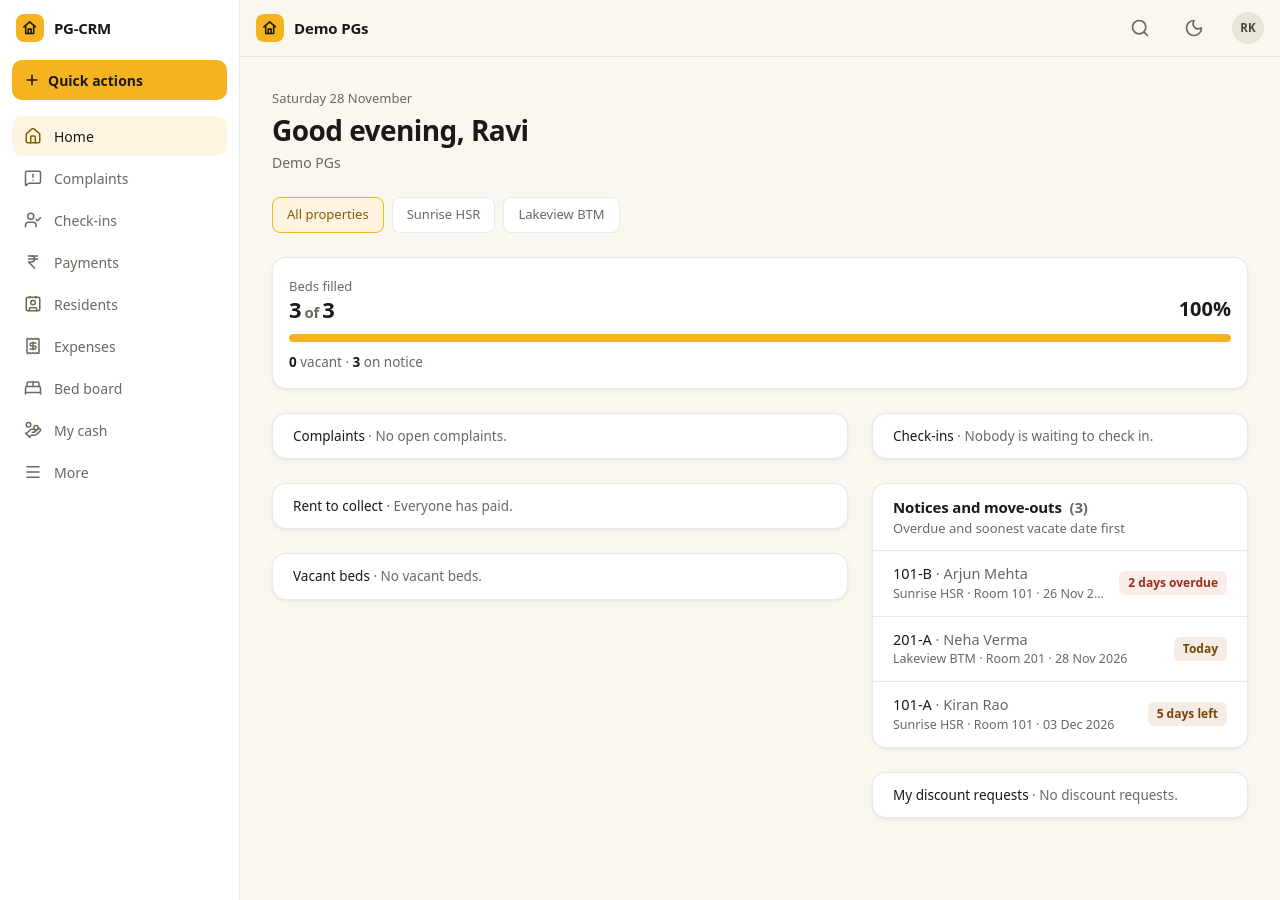
Test: FE-04 Home screens › [FE-04/AC1] Caretaker home lists on-notice beds for assigned properties, soonest vacate date first
Expected: the number of list items is 3, [873, 551, 1247, 616]; [873, 616, 1247, 682]; [873, 682, 1247, 746]
Expected: the list item that starts with "101-B" is shown, [873, 551, 1247, 616]
// Property switcher filters to Lakeview BTM
Click the button "Lakeview BTM" at (562, 214), box [503, 196, 620, 232]
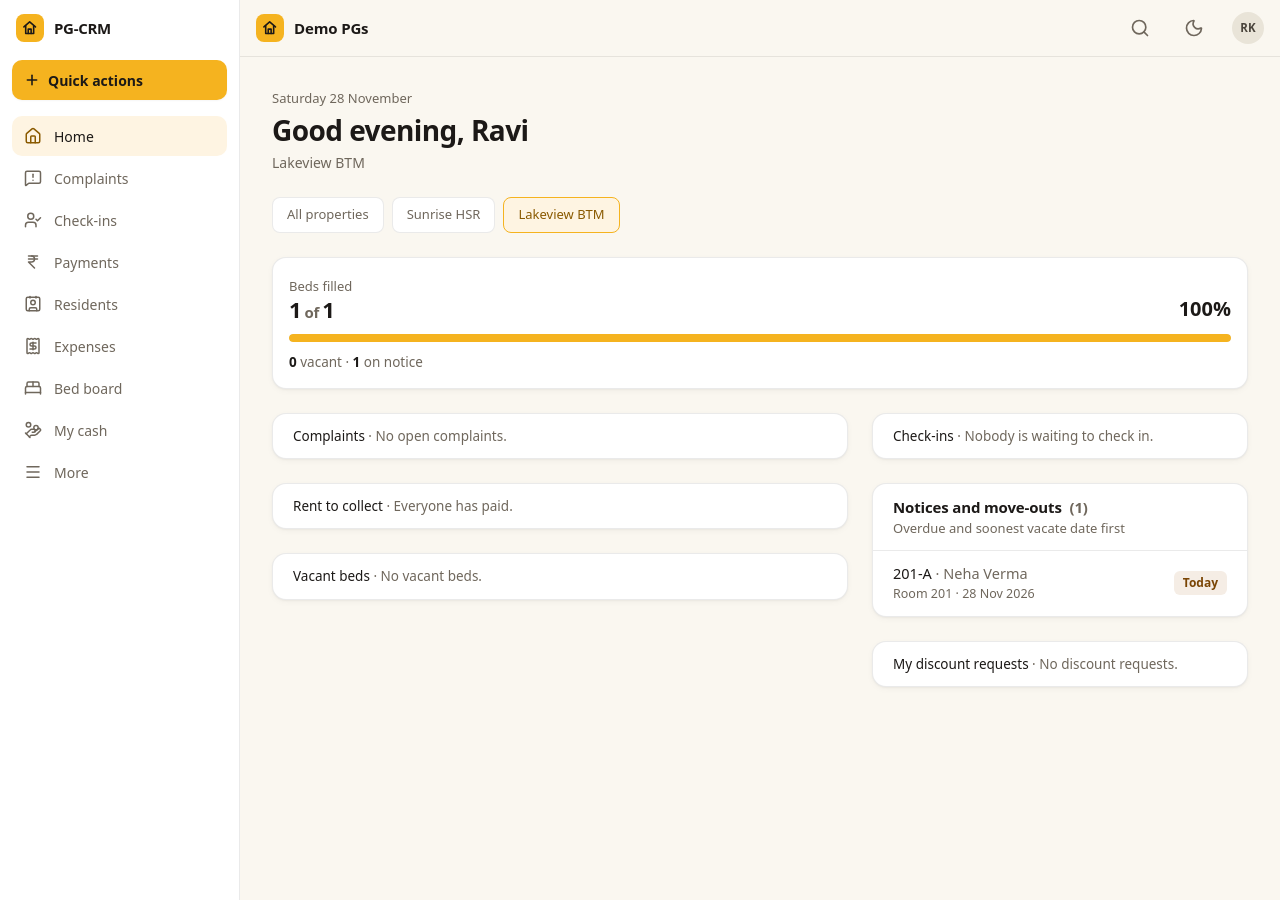
Expected: the list item shows "201-A", [873, 551, 1247, 616]
Result: the number of list items is 1 at [873, 551, 1247, 616]
